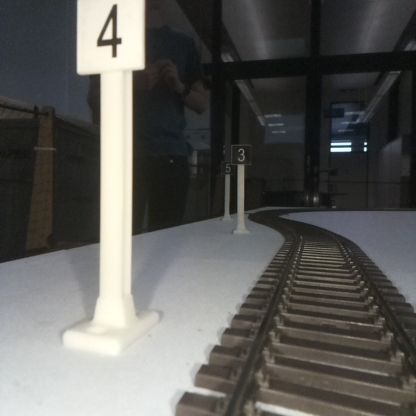black-info-3: (231, 145, 251, 233)
black-info-5: (221, 160, 233, 222)
white-info-4: (78, 0, 144, 345)
